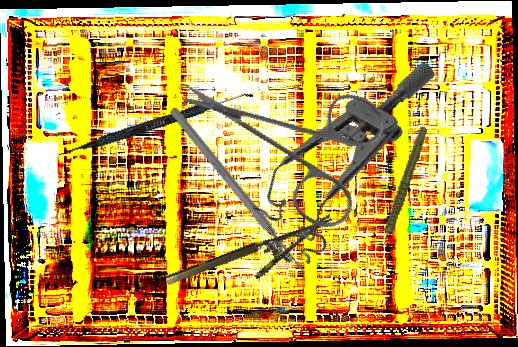Handpiece: (350, 124, 452, 253)
Iris Scissors: (178, 22, 411, 262)
Needle Holder: (164, 213, 342, 309)
Pusher: (167, 105, 310, 278)
Spatula Surgical: (57, 85, 254, 163)
Speculum: (239, 22, 439, 276)
